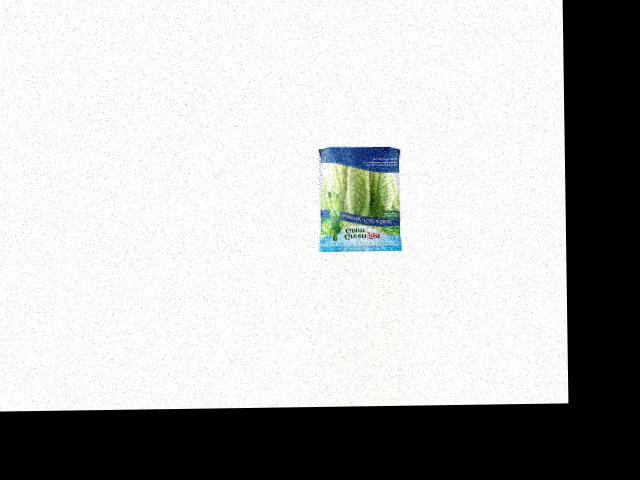lettuce: (315, 141, 402, 247)
